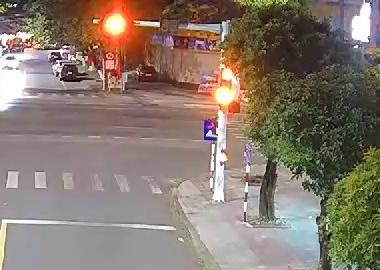stop_line: (2, 215, 189, 233)
yellow_light: (214, 60, 240, 115), (102, 13, 127, 36)
